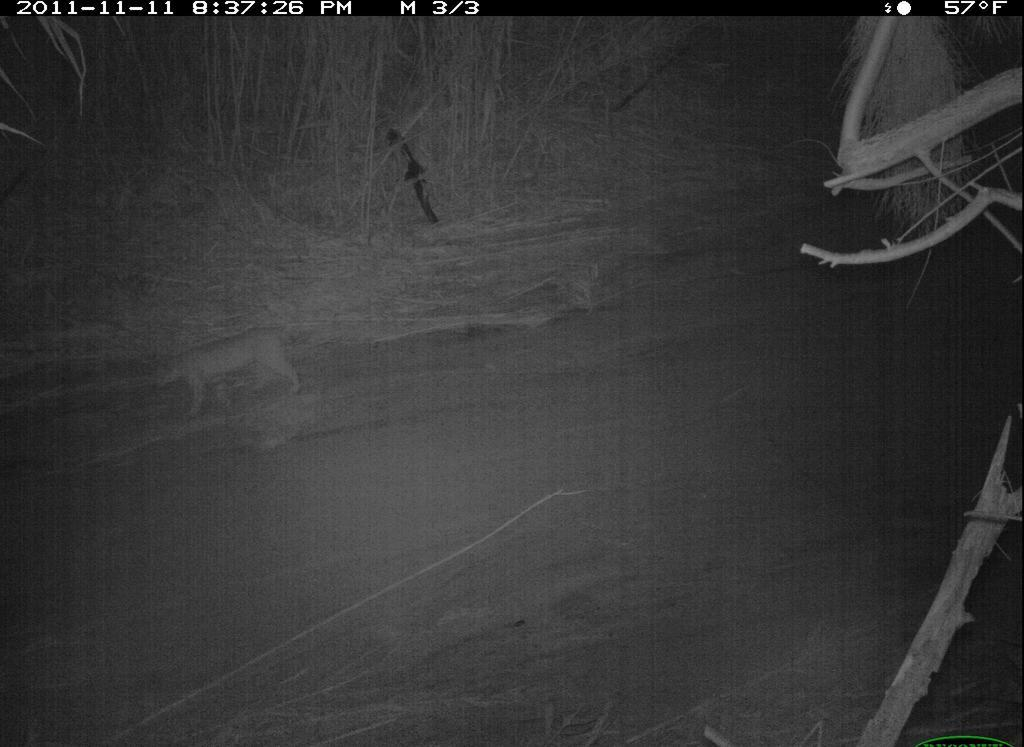bobcat: (135, 314, 318, 434)
